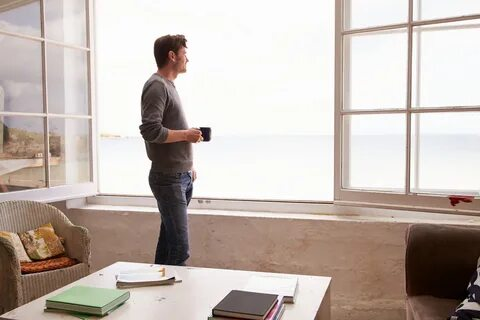awake: (139, 33, 204, 266)
